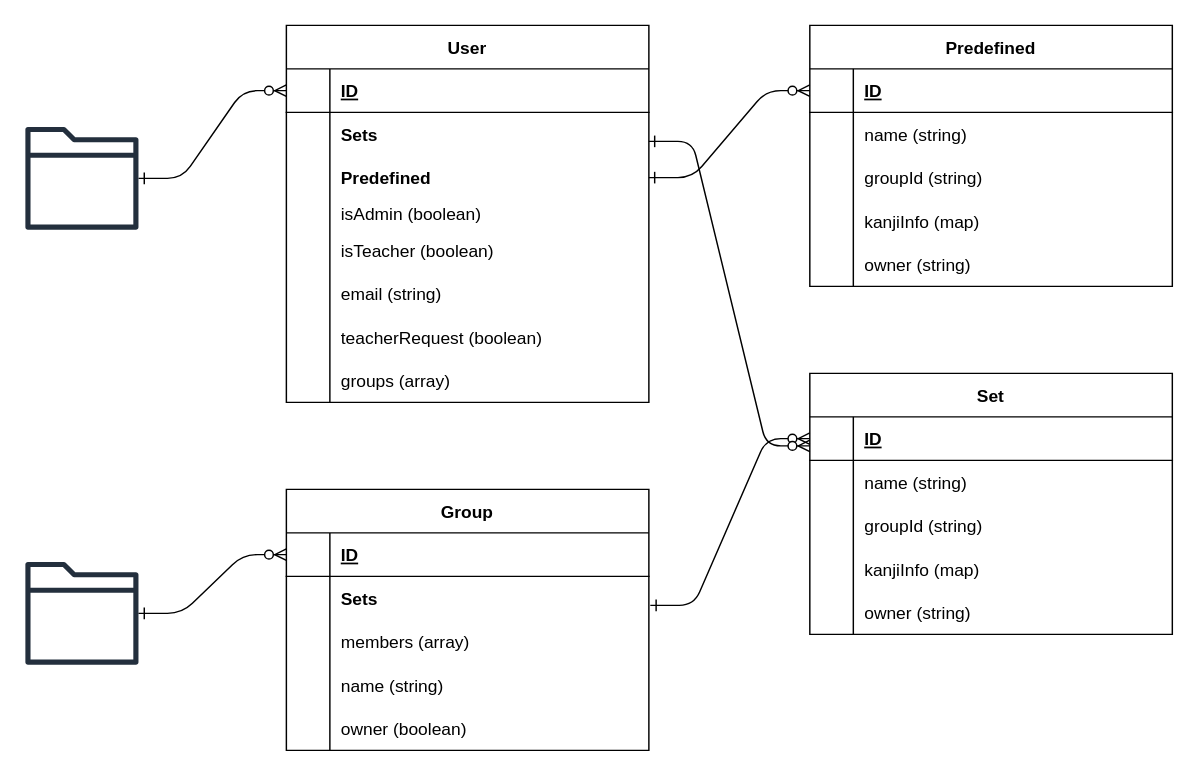
Image size: 1198x776. Some labels were removed from this diagram. The centre of each missing label's shape, as x and y in pixels:
"Groups" goes at pixel 81 612.
"Users" goes at pixel 81 177.
